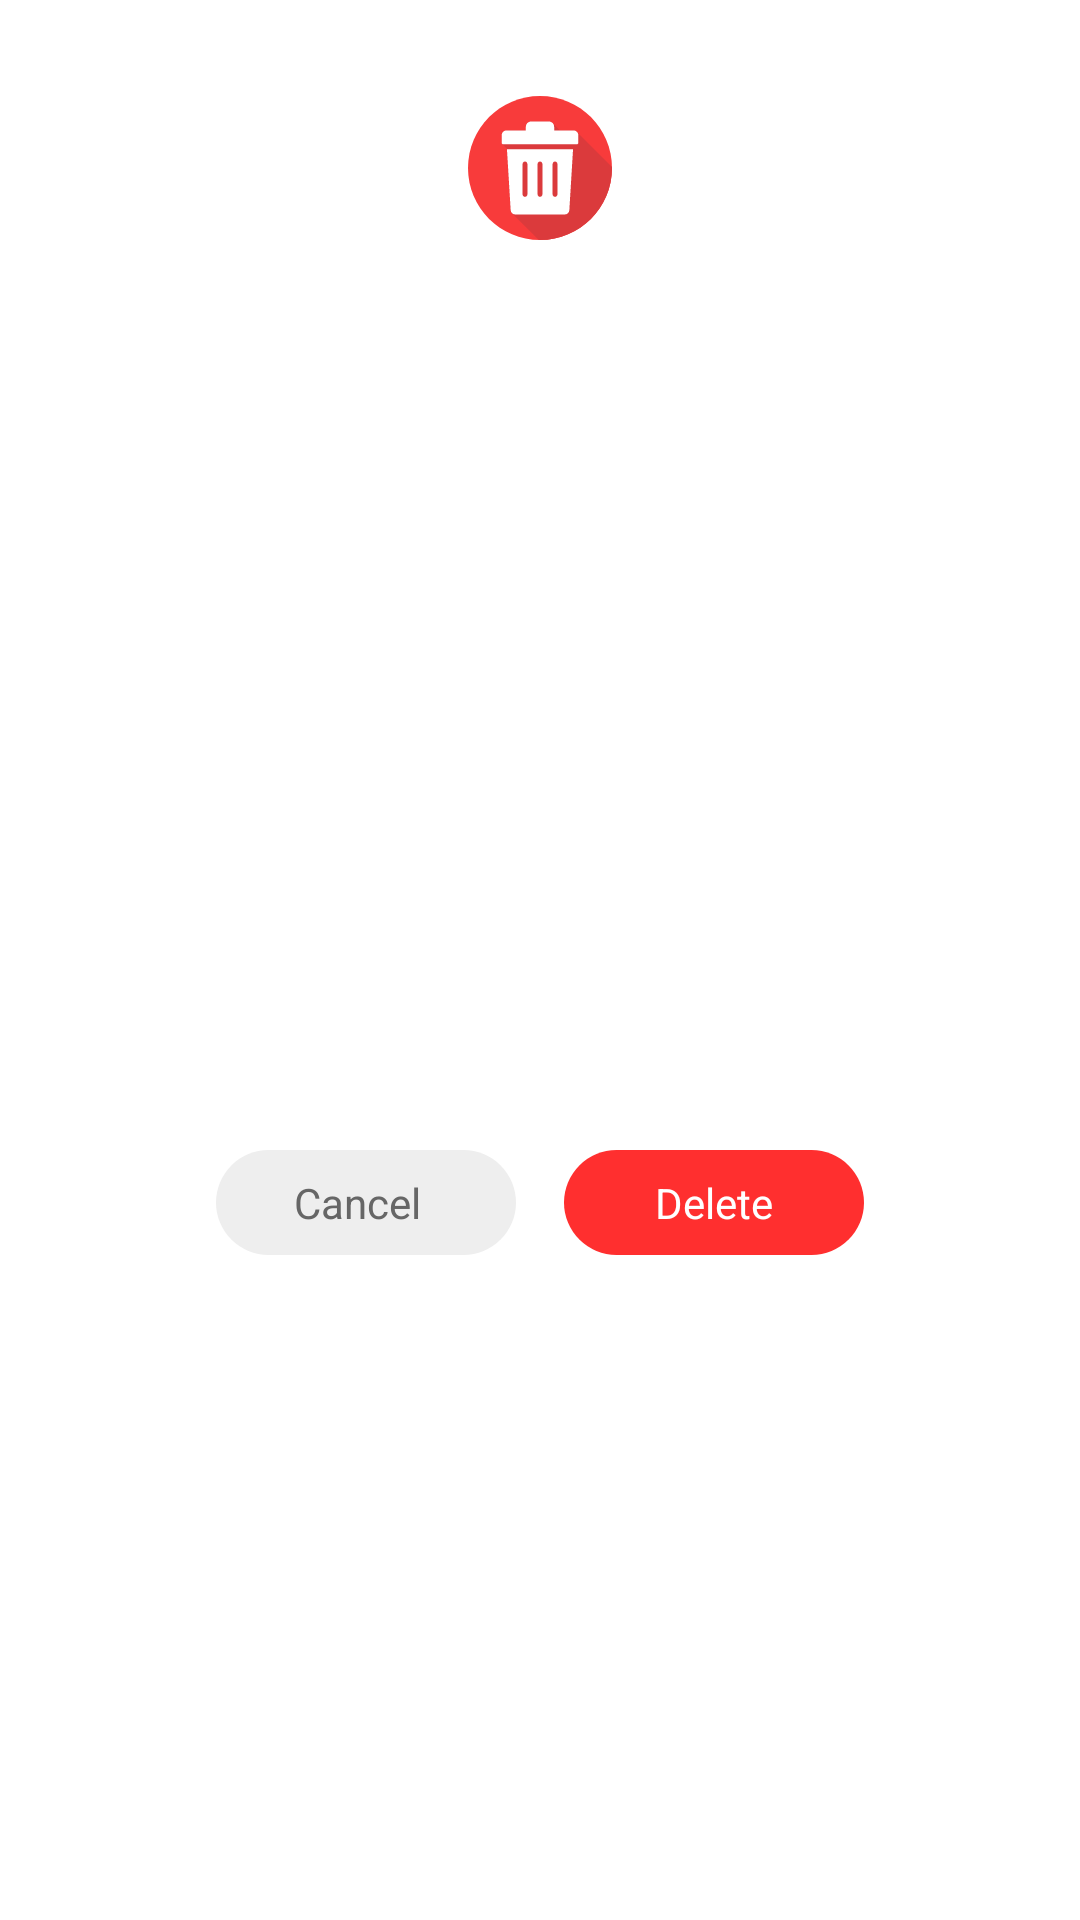

Locate icon controls on the screen. Image size 1080 x 1920, boxes as (x1, y1, x2, y2).
clear conversation: (468, 96, 612, 240)
